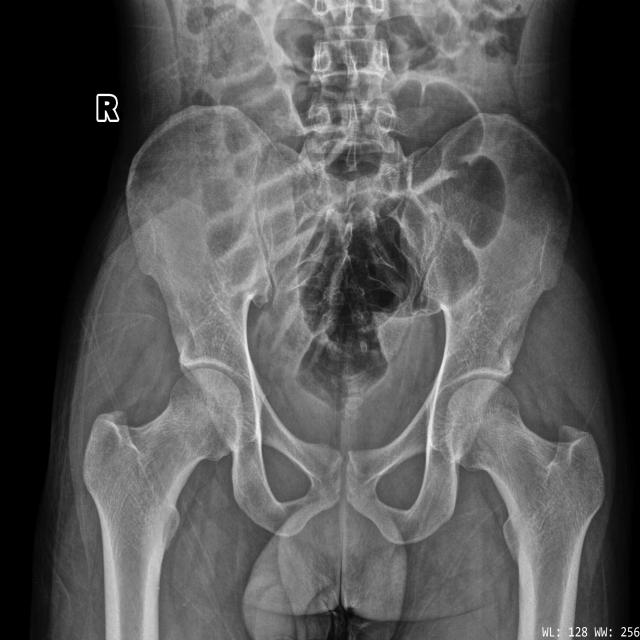normal-left: (444, 379, 605, 640)
normal-right: (83, 368, 244, 640)
